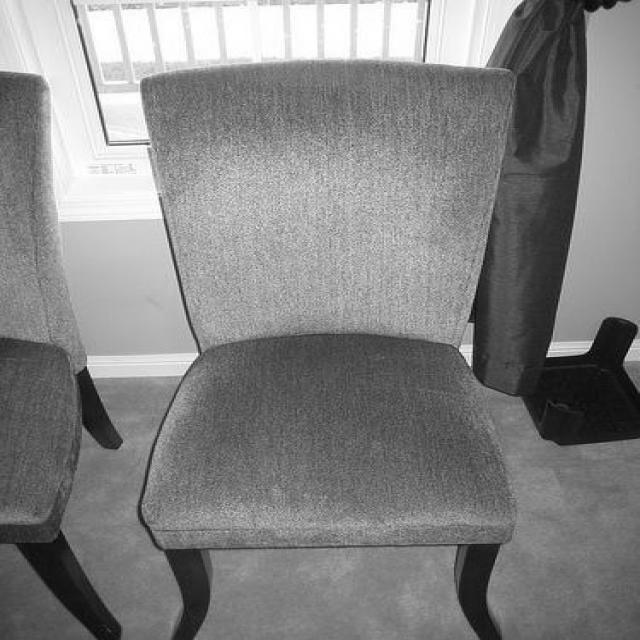chair: (130, 60, 520, 639), (0, 66, 128, 638)
